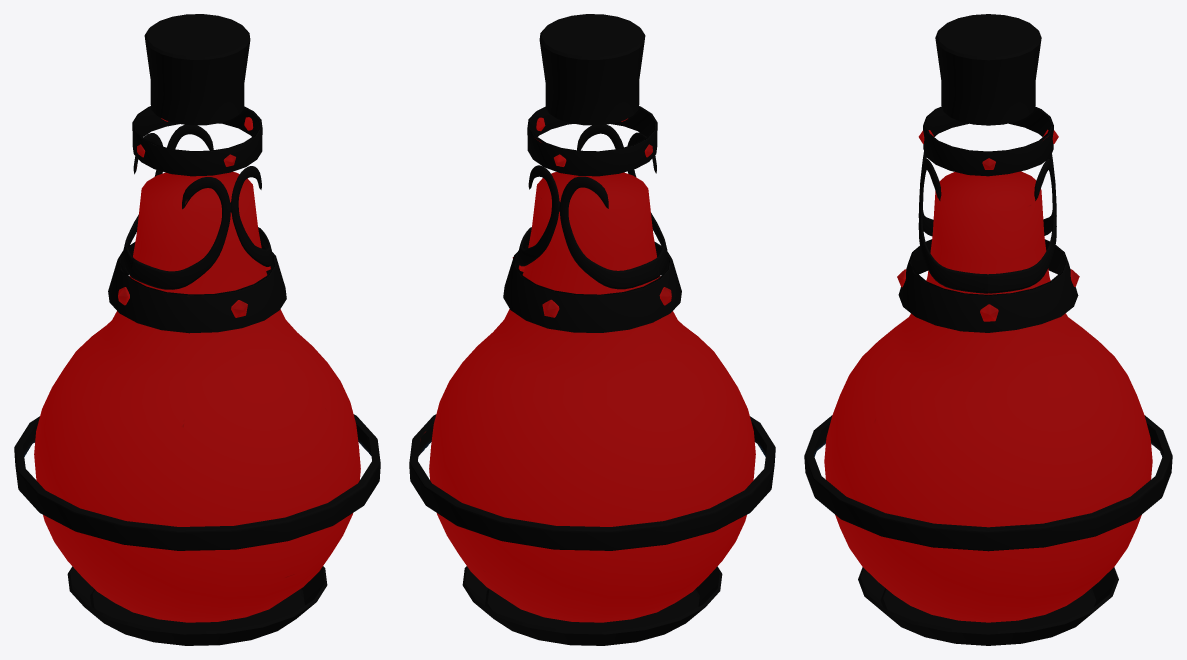
File: potion unity (TEXTURED).fbx
3 renders of one model, left to right at view 1: azimuth 30°, elevation 25°; view 2: azimuth 150°, elevation 25°; view 3: azimuth 270°, elevation 25°, orthographic.
Visible parts, largest first — view 1: liquide, ornement_1 (×2), ornement_4, bouchon, ornement_5, ornement_3; view 2: liquide, ornement_1 (×2), ornement_4, bouchon, ornement_5, ornement_3; view 3: liquide, ornement_1 (×2), ornement_4, bouchon, ornement_5, ornement_3.
Boxes of the visible parts, left/top/right/bottom form: liquide: left=34, top=171, right=360, bottom=622; ornement_1 (×2): left=108, top=106, right=286, bottom=333; ornement_4: left=14, top=414, right=380, bottom=550; bouchon: left=144, top=14, right=250, bottom=125; ornement_5: left=67, top=566, right=327, bottom=645; ornement_3: left=122, top=124, right=272, bottom=289; liquide: left=429, top=172, right=755, bottom=622; ornement_1 (×2): left=503, top=106, right=681, bottom=332; ornement_4: left=409, top=414, right=775, bottom=550; bouchon: left=539, top=14, right=645, bottom=125; ornement_5: left=462, top=566, right=722, bottom=645; ornement_3: left=517, top=124, right=667, bottom=289; liquide: left=824, top=171, right=1152, bottom=622; ornement_1 (×2): left=898, top=106, right=1078, bottom=332; ornement_4: left=804, top=415, right=1172, bottom=551; bouchon: left=935, top=14, right=1041, bottom=125; ornement_5: left=858, top=567, right=1118, bottom=645; ornement_3: left=918, top=151, right=1056, bottom=293.
Size of the model in its own units: 2.1 by 3.55 by 2.1.
